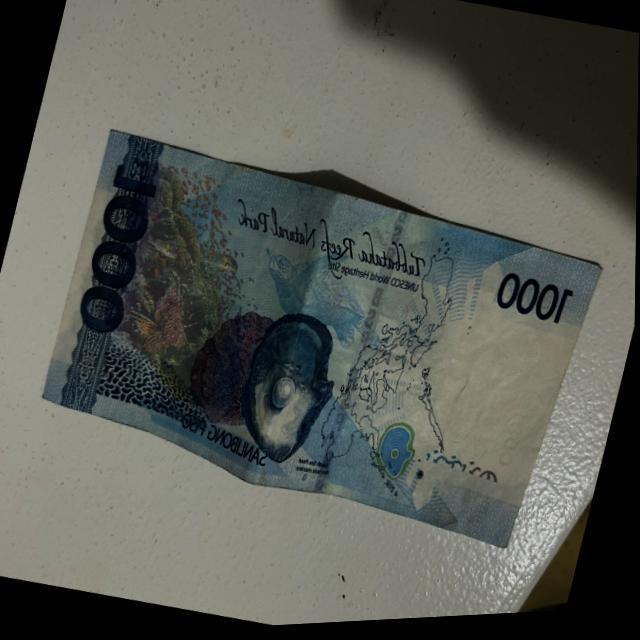1000_pearl: (232, 310, 345, 469)
1000_pearl_watermark: (369, 422, 422, 488)
